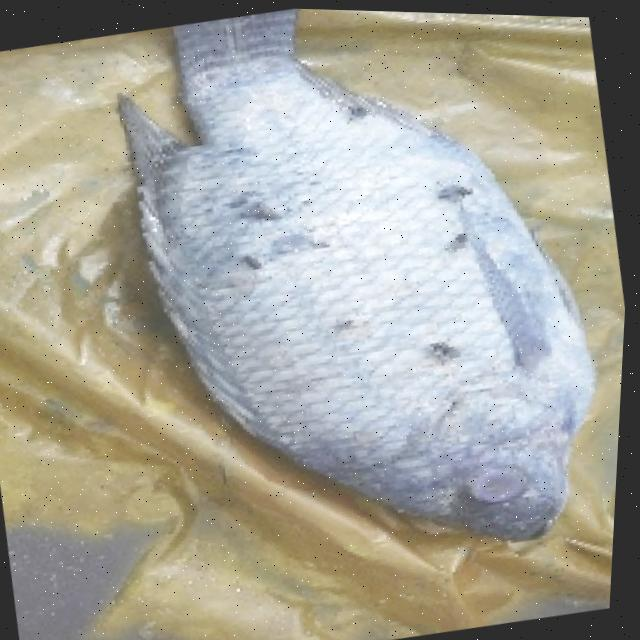Non-Fresh: (407, 378, 591, 563)
